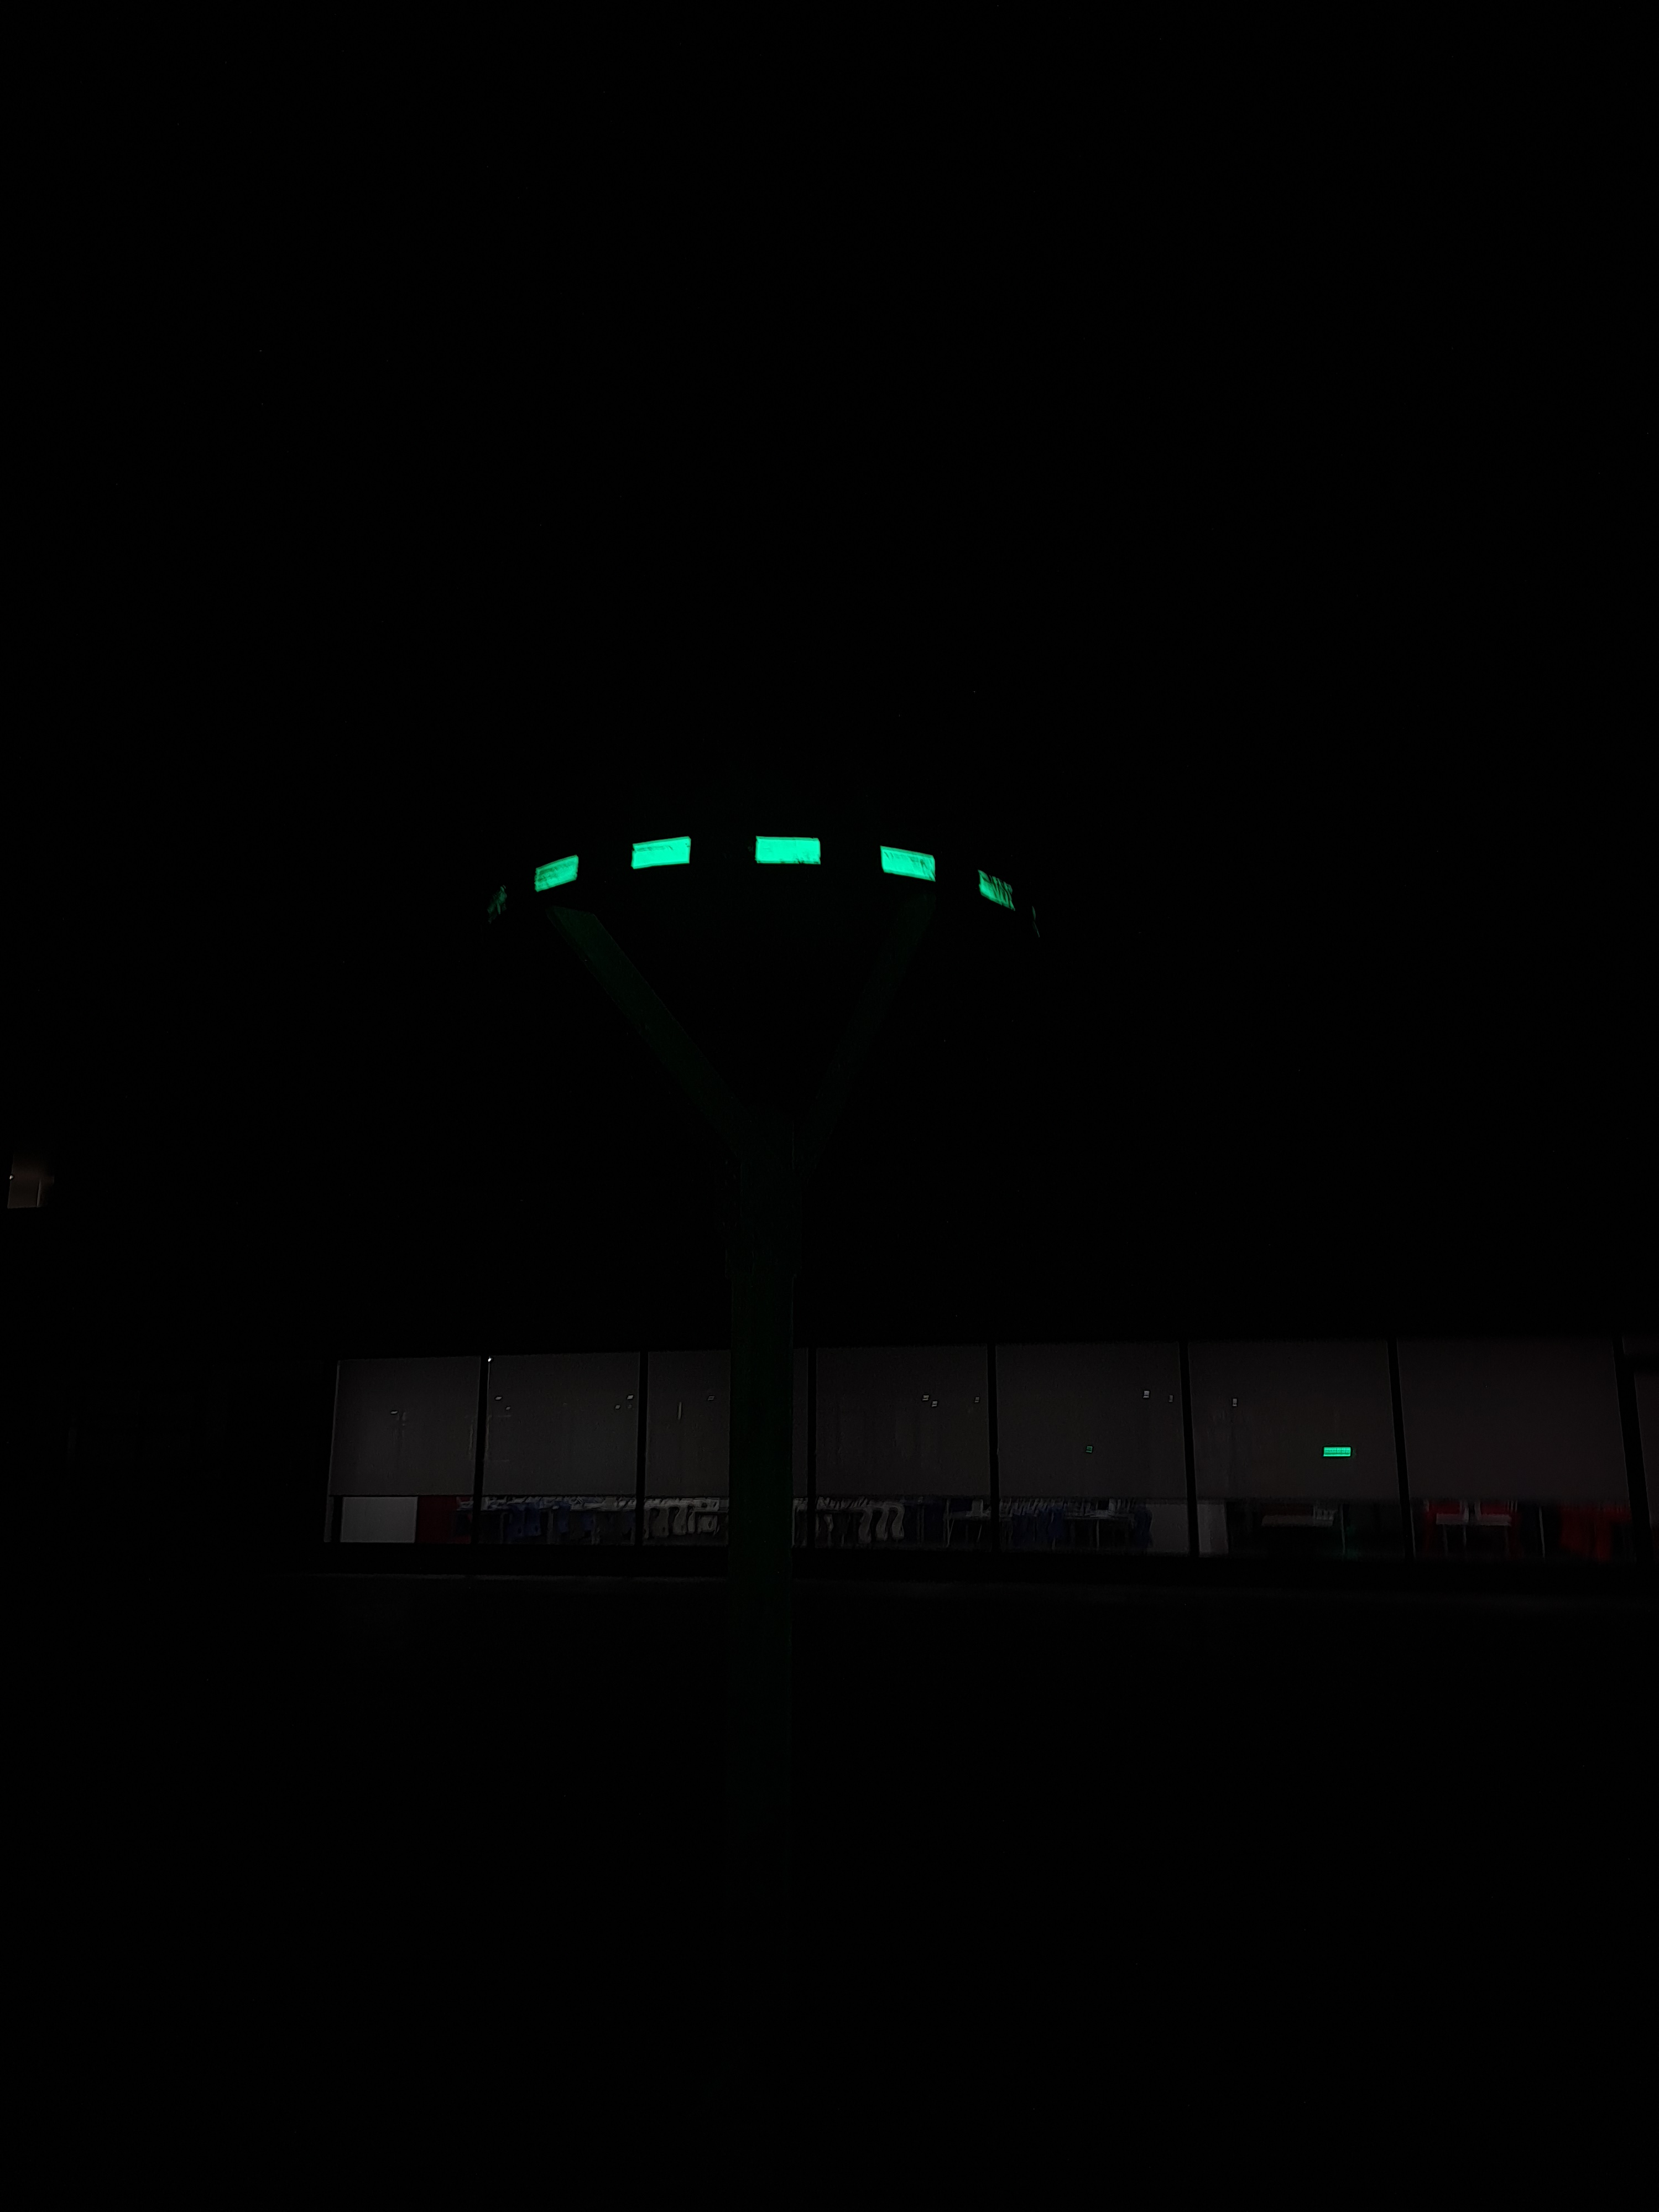hoop: (525, 831, 1026, 920)
